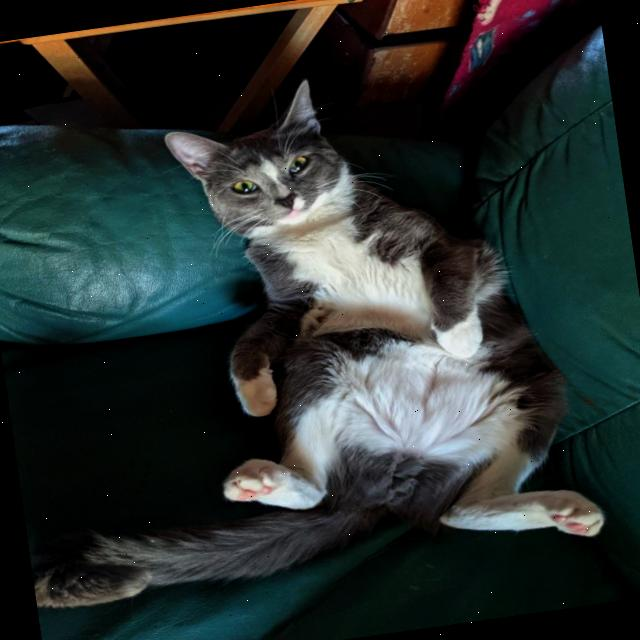russian_blue_cat: (150, 70, 364, 257)
